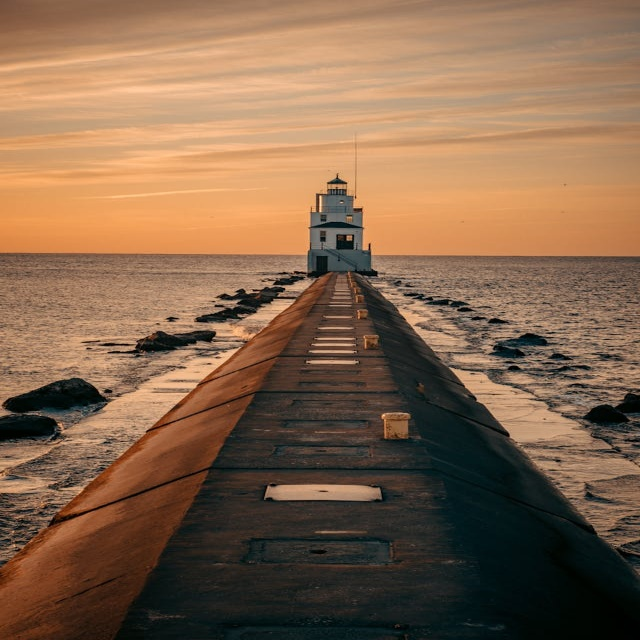clean_water: (13, 13, 627, 627)
oil_spill: (160, 416, 462, 615)
turbid_water: (0, 0, 640, 640)
